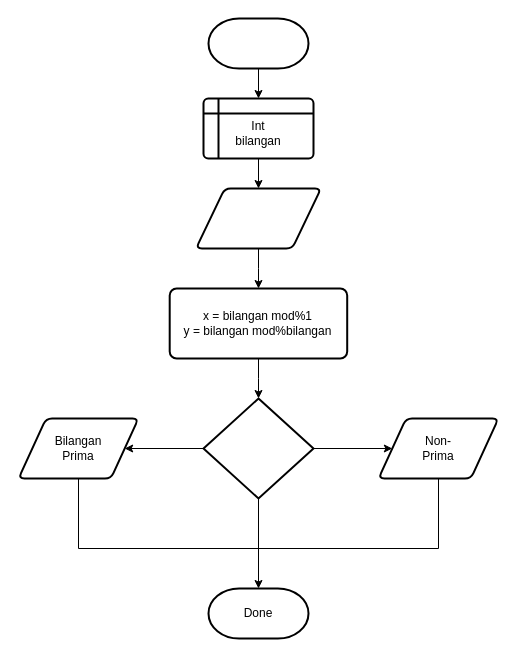
Image size: 516x656. Some labels were removed from this diagram. Each missing label, with the box of its shape:
Masukan bilangan: (194, 187, 322, 249)
Mulai: (207, 17, 309, 69)
X = 0 AND Y = 0: (202, 397, 314, 499)
